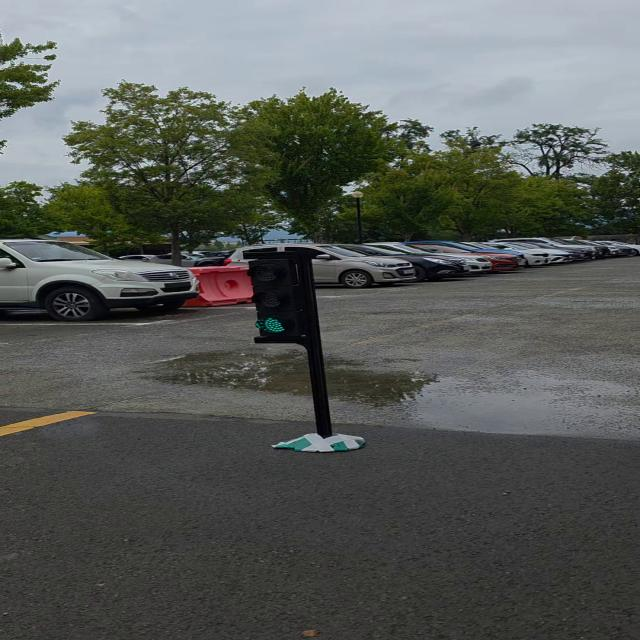green: (247, 254, 323, 342)
